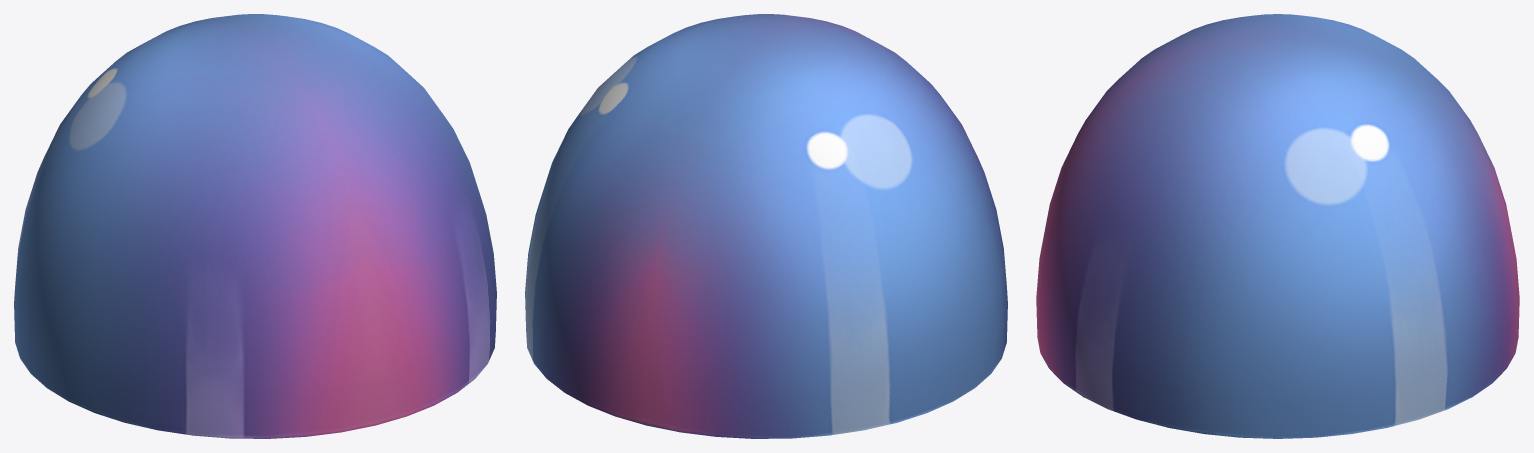
The model's file is scenes_level_bata01.FBX.
3 renders of one model, left to right at view 1: azimuth 30°, elevation 25°; view 2: azimuth 150°, elevation 25°; view 3: azimuth 270°, elevation 25°, orthographic.
Visible parts, largest first — view 1: scenes_level_bata01; view 2: scenes_level_bata01; view 3: scenes_level_bata01.
Part boxes in pixels (x1,y1,x2,y2): scenes_level_bata01: (14, 14, 496, 438); scenes_level_bata01: (525, 14, 1007, 438); scenes_level_bata01: (1036, 14, 1519, 438).
Size of the model in its own units: 553 by 381 by 553.
